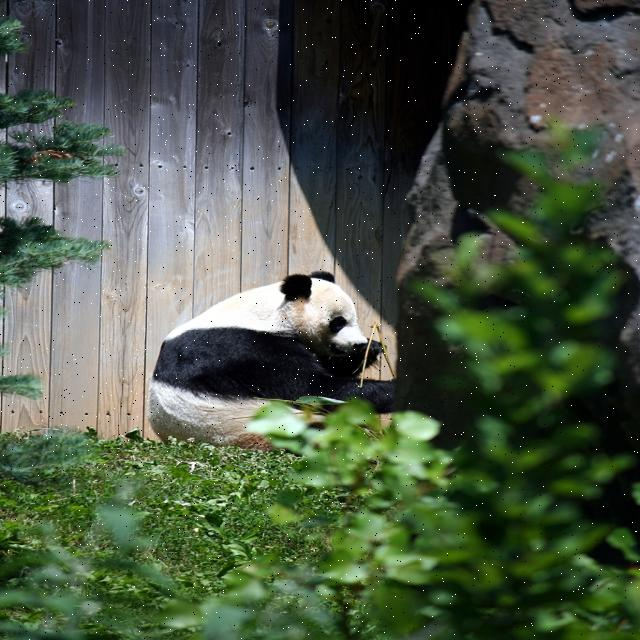panda: (138, 268, 398, 447)
